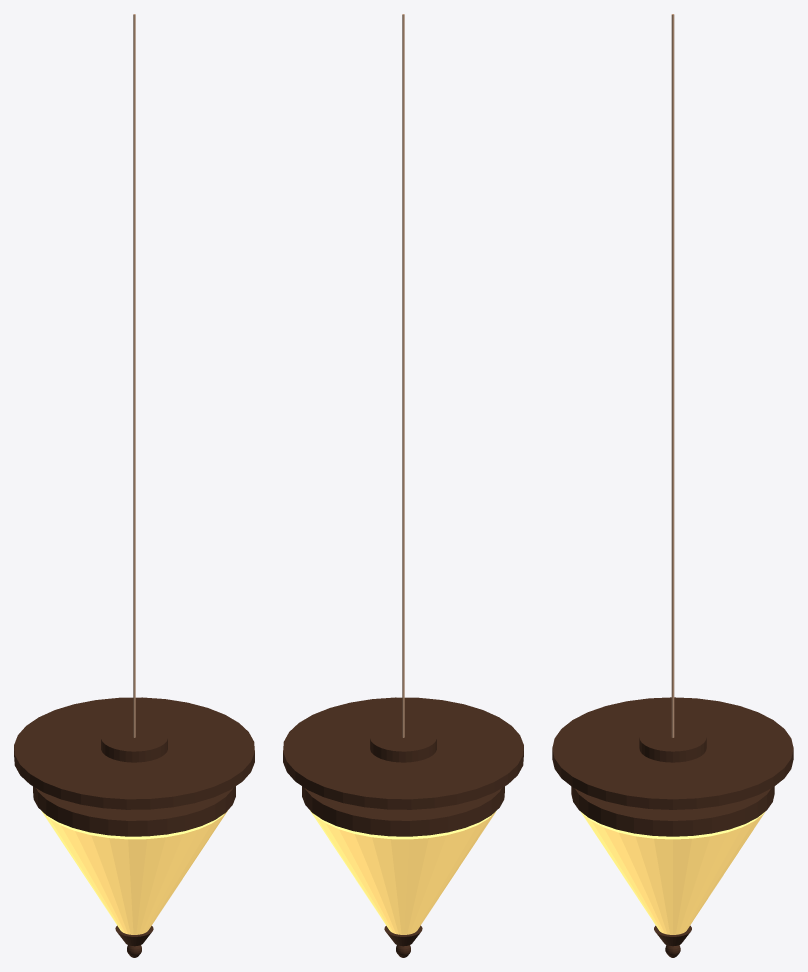
The model's file is Luce 3 Gialla.fbx.
3 views of the same model, side by side, from view 1: azimuth 30°, elevation 25°; view 2: azimuth 150°, elevation 25°; view 3: azimuth 270°, elevation 25° (orthographic).
Visible parts, largest first — view 1: Cylinder.058; view 2: Cylinder.058; view 3: Cylinder.058.
Part boxes in pixels (box(x1,y1,x2,y2)): Cylinder.058: box(14, 14, 254, 957); Cylinder.058: box(283, 14, 523, 957); Cylinder.058: box(552, 14, 793, 957).
Bounding box in the file's own units: 51.04 × 220 × 51.04.
